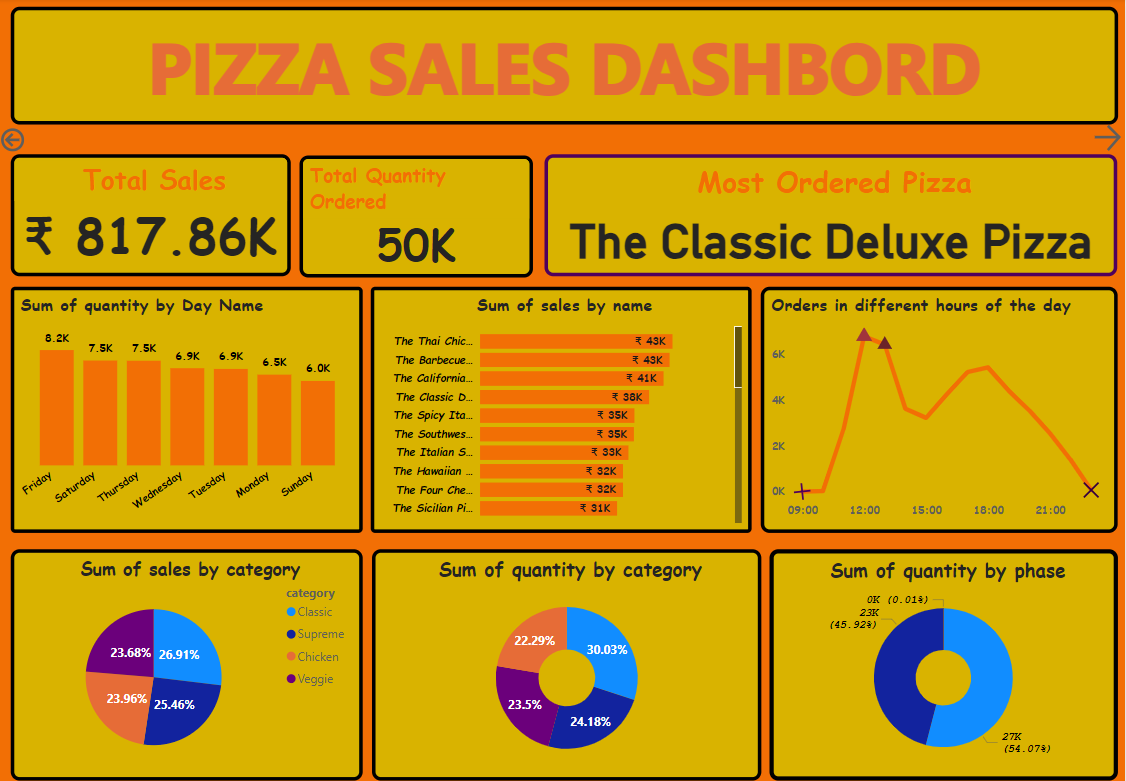

Layout of this report page (visuals, bound fields, positions):
{"tool":"powerbi","page":{"name":"Dashboard","canvas":[1280,900],"ordinal":1},"visuals":[{"type":"lineChart","title":"Orders in different hours of the day","fields":{"Category":["orders.Start of Hour"],"Y":["Sum(order_details.quantity)"]},"box":[866.6,327.8,404.8,279.4],"z":0},{"type":"clusteredColumnChart","fields":{"Category":["orders.Day Name"],"Y":["Sum(order_details.quantity)"]},"box":[15.7,327.8,399.1,279.4],"z":1000},{"type":"card","title":"Total Sales","fields":{"Values":["Sum(order_details.sales)"]},"box":[15.7,176.7,317.9,138.3],"z":2000},{"type":"donutChart","fields":{"Category":["pizza_types.category"],"Y":["Sum(order_details.quantity)"]},"box":[424.8,625.7,441.9,262.3],"z":3000},{"type":"barChart","fields":{"Category":["pizza_types.name"],"Y":["Sum(order_details.sales)"]},"box":[423.3,327.8,431.9,279.4],"z":4000},{"type":"pieChart","fields":{"Category":["pizza_types.category"],"Y":["Sum(order_details.sales)"]},"box":[15.7,625.7,399.1,262.3],"z":5000},{"type":"card","title":"Total Quantity Ordered","fields":{"Values":["Sum(order_details.quantity)"]},"box":[343.5,178.2,265.1,138.3],"z":6000},{"type":"donutChart","fields":{"Category":["orders.phase"],"Y":["Sum(order_details.quantity)"]},"box":[876.6,625.7,394.8,262.3],"z":7000},{"type":"card","title":"Most Ordered Pizza","fields":{"Values":["order_details.MostOrderedPizza"]},"box":[621.5,176.7,650,138.3],"z":8000},{"type":"textbox","box":[15.6,9.9,1256.1,133.3],"z":9000},{"type":"actionButton","box":[0,143.2,48.2,35.4],"z":10000},{"type":"actionButton","box":[1239.1,138.9,41.1,39.7],"z":10001}]}

Visuals, with their boxes in screenshot pixels (x1, y1, x2, y2), scaled from the page's 1280x900 canvas onto the 1126x781 screenshot:
"Orders in different hours of the day" lineChart: <region>762, 284, 1118, 527</region>
clusteredColumnChart - orders.Day Name x Sum(order_details.quantity): <region>14, 284, 365, 527</region>
"Total Sales" card: <region>14, 153, 293, 273</region>
donutChart - pizza_types.category x Sum(order_details.quantity): <region>374, 543, 762, 771</region>
barChart - pizza_types.name x Sum(order_details.sales): <region>372, 284, 752, 527</region>
pieChart - pizza_types.category x Sum(order_details.sales): <region>14, 543, 365, 771</region>
"Total Quantity Ordered" card: <region>302, 155, 535, 275</region>
donutChart - orders.phase x Sum(order_details.quantity): <region>771, 543, 1118, 771</region>
"Most Ordered Pizza" card: <region>547, 153, 1119, 273</region>
textbox: <region>14, 9, 1119, 124</region>
actionButton: <region>0, 124, 42, 155</region>
actionButton: <region>1090, 121, 1125, 155</region>
